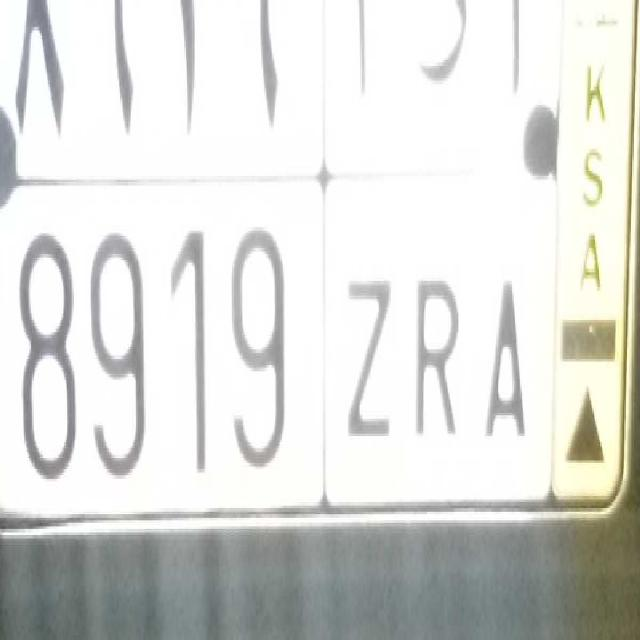license_plate: (12, 189, 542, 548)
